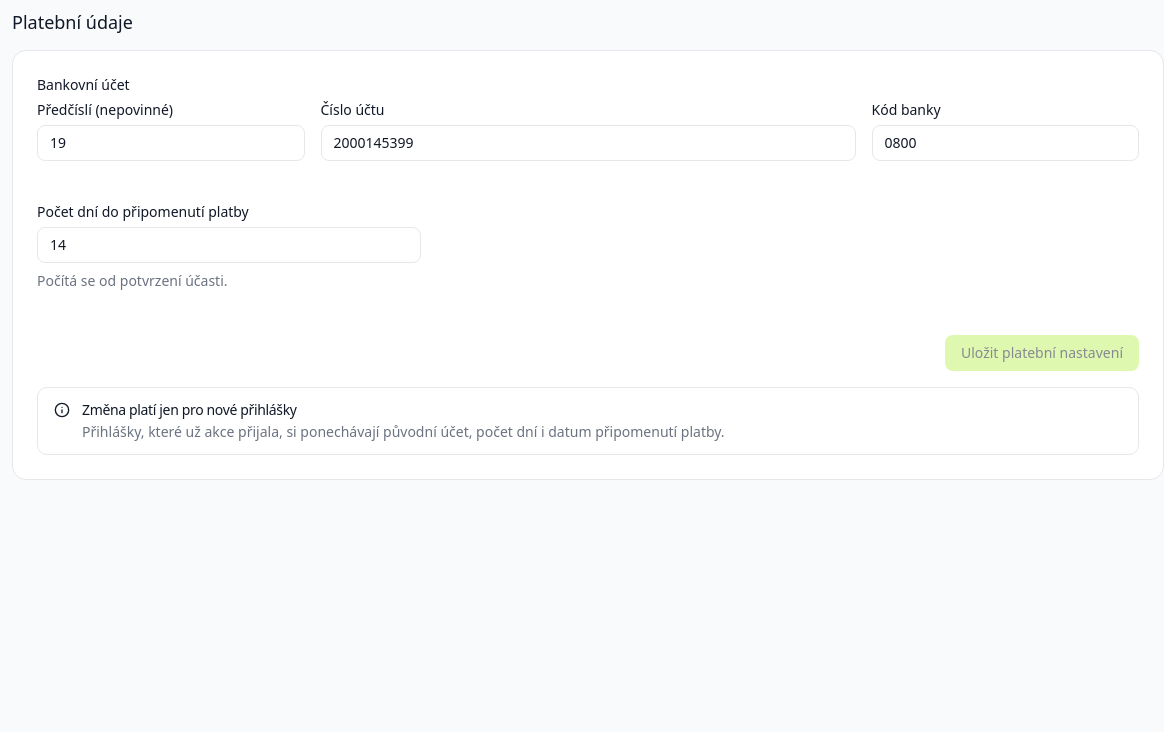
Scenario: PaymentSettingsSection › disables the button after a successful save and keeps it active after a failed one
Expected: the button "Uložit platební nastavení" is disabled, [945,335,1139,371]
Replace the text in the field labelled "Počet dní do připomenutí platby" with "30" at [229, 245], box [37,227,421,263]
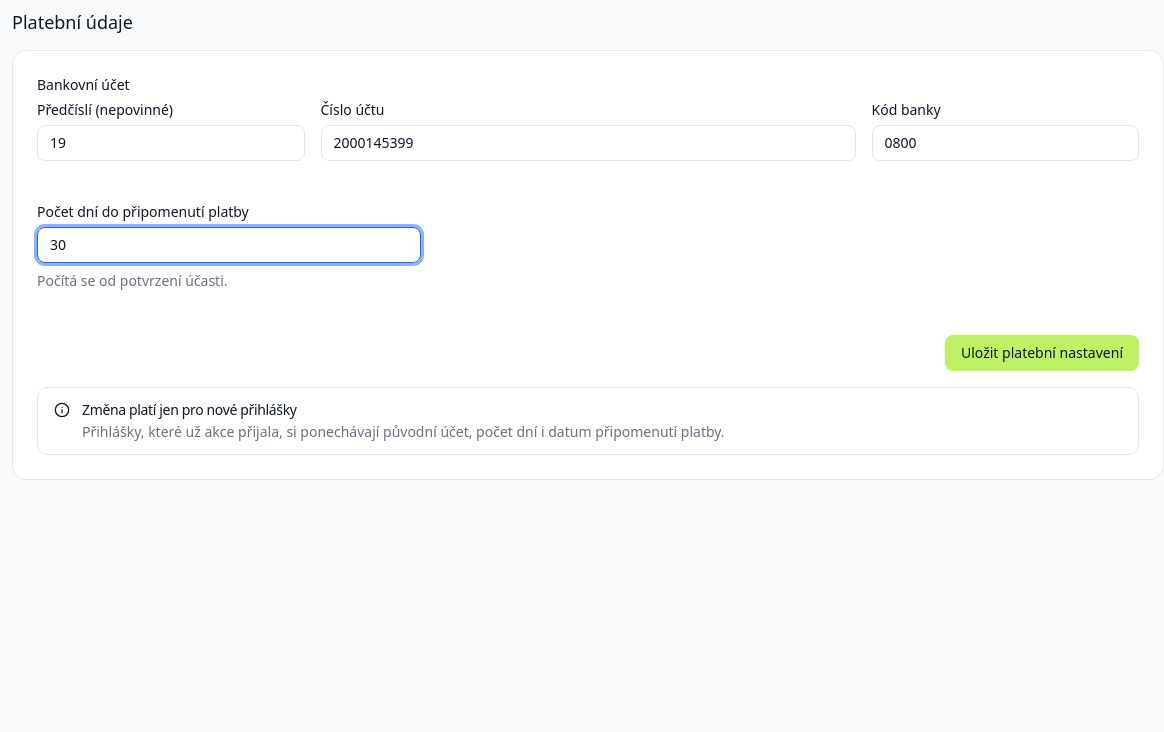
Click the button "Uložit platební nastavení" at [1042, 353], box [945,335,1139,371]
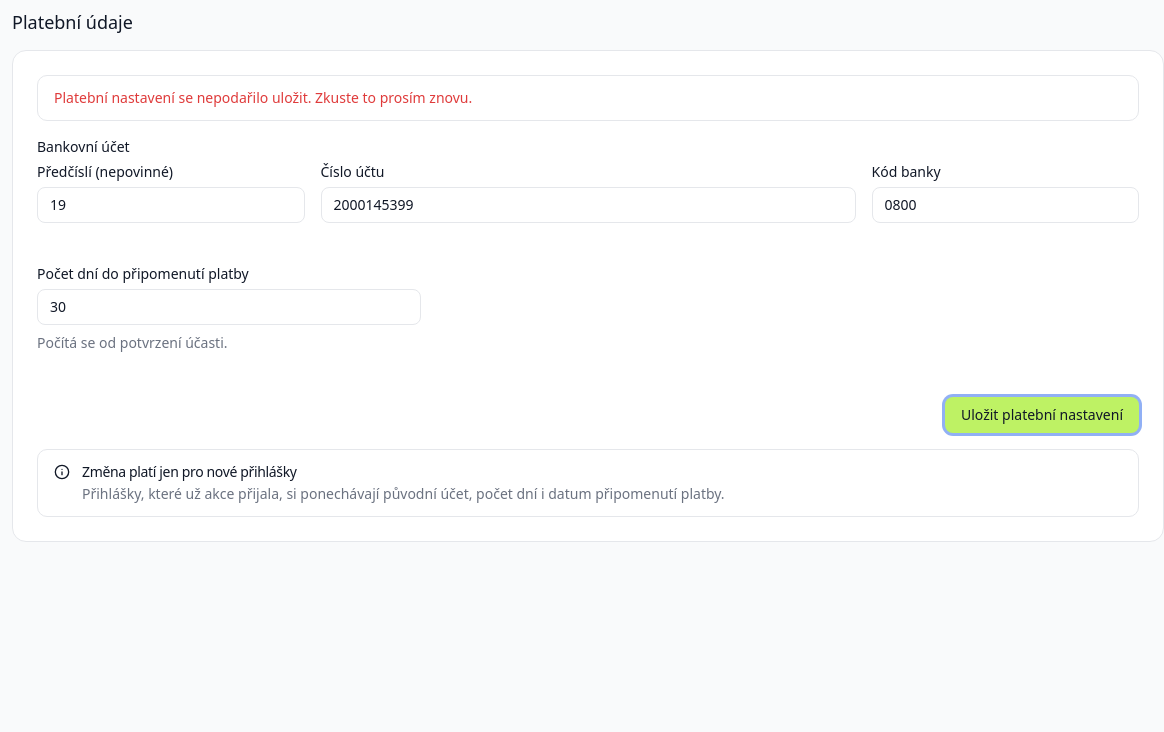
Result: the button "Uložit platební nastavení" is enabled
Result: the text "nepodařilo uložit" is shown at [54,88,472,107]
Click the button "Uložit platební nastavení" at [1042, 415], box [945,397,1139,433]
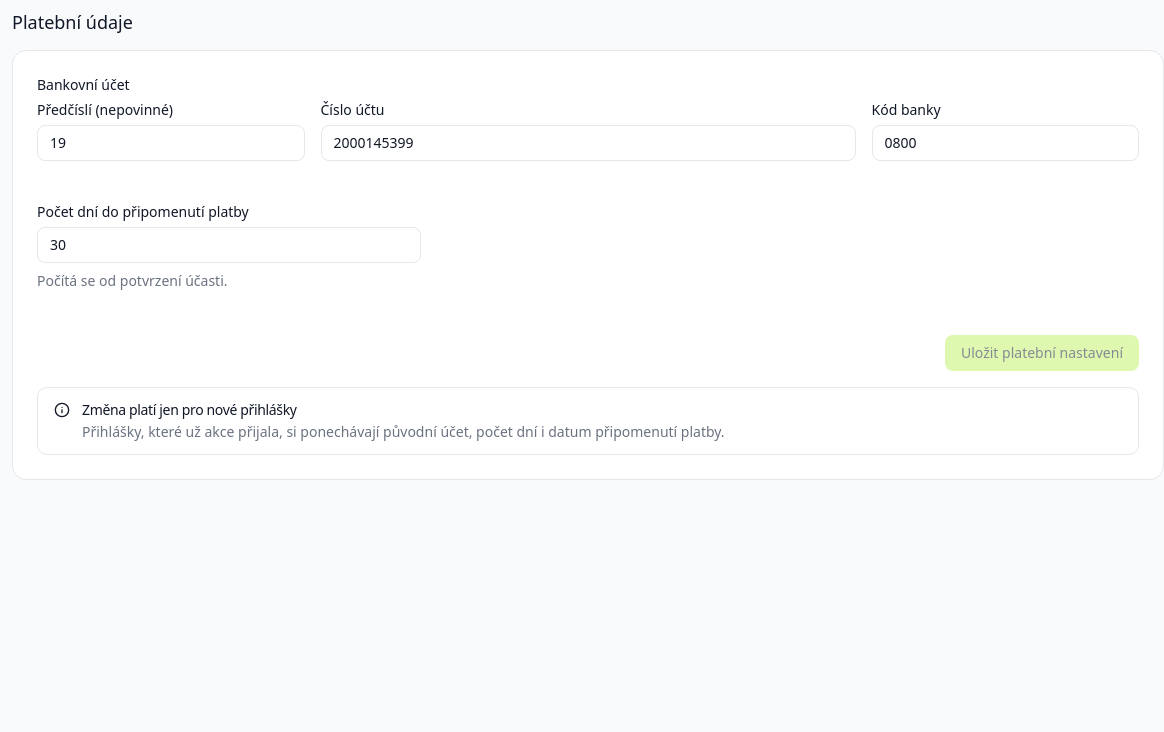
Result: the button "Uložit platební nastavení" is disabled at [945,335,1139,371]
